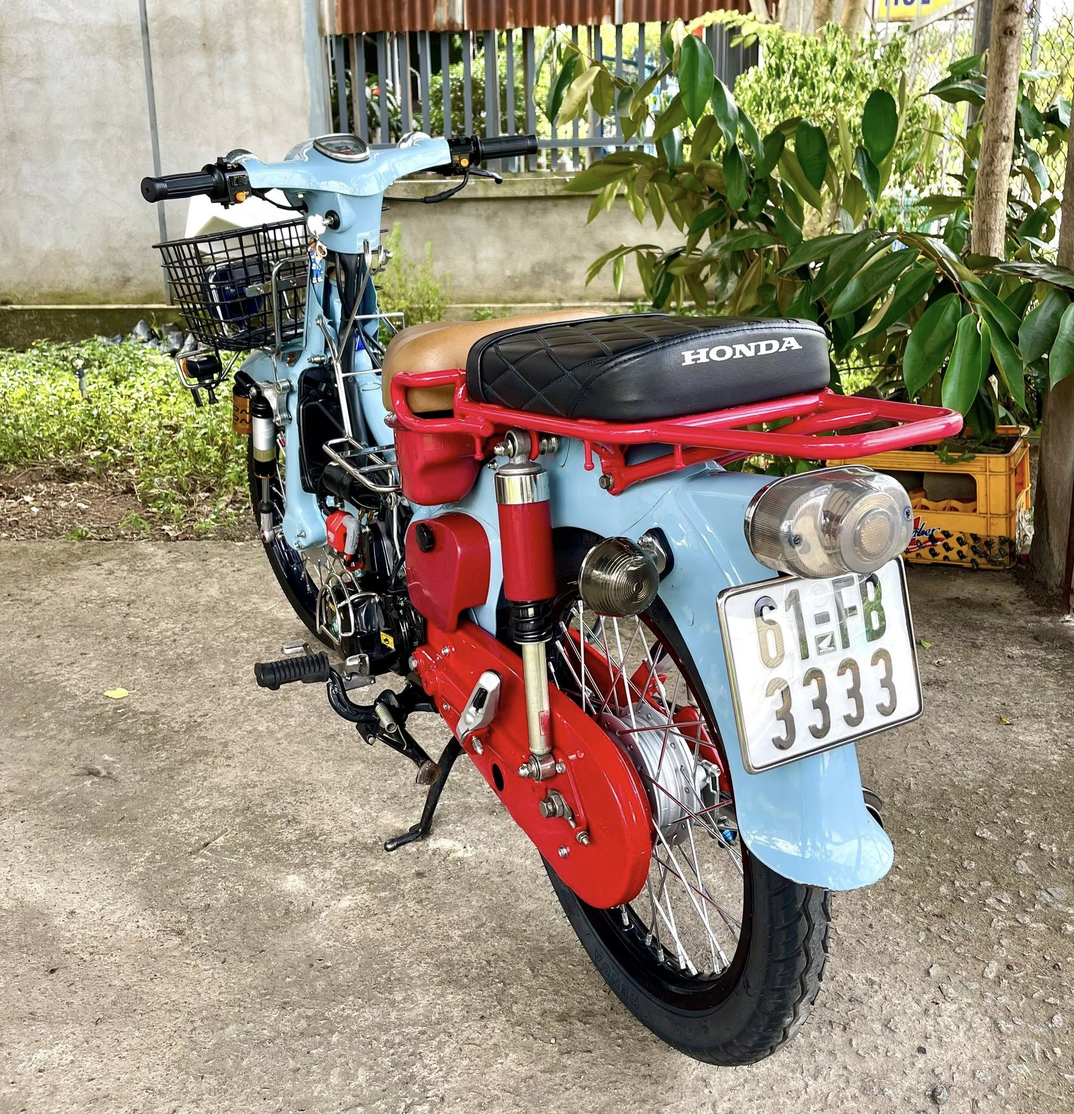bien_so: (712, 541, 933, 785)
